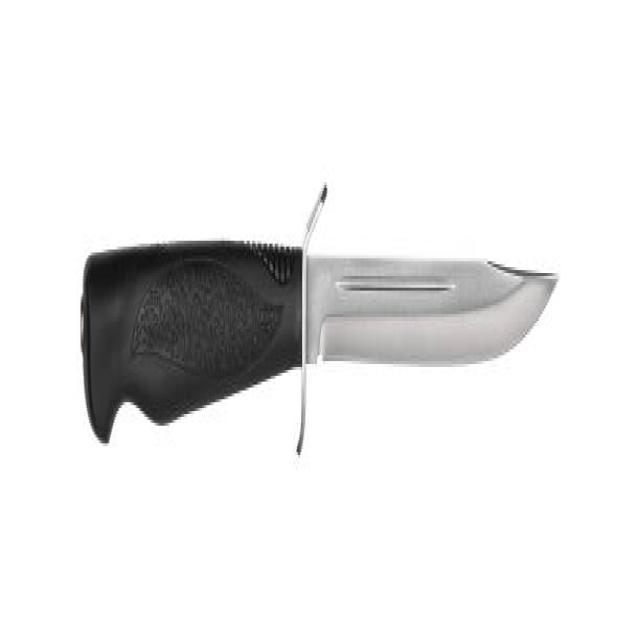knife: (76, 160, 563, 487)
